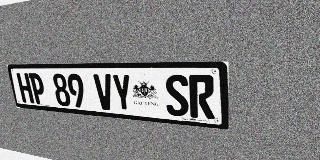8: (51, 73, 71, 107)
9: (66, 74, 87, 108)
H: (16, 73, 34, 103)
P: (28, 73, 47, 105)
R: (189, 75, 215, 119)
S: (164, 74, 189, 117)
V: (93, 74, 115, 111)
Y: (111, 74, 134, 112)
